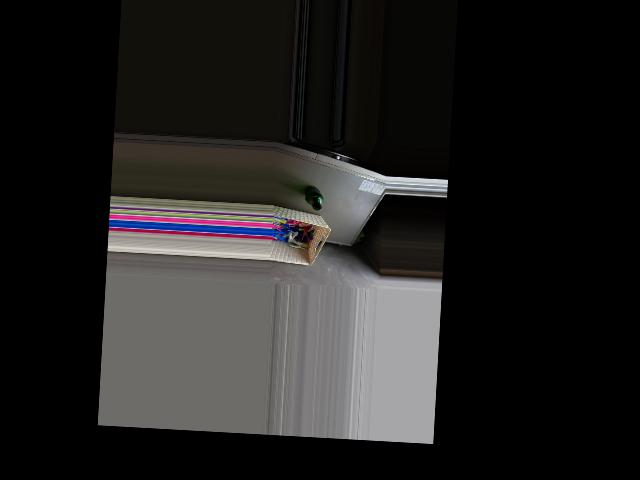beer: (303, 185, 322, 209)
